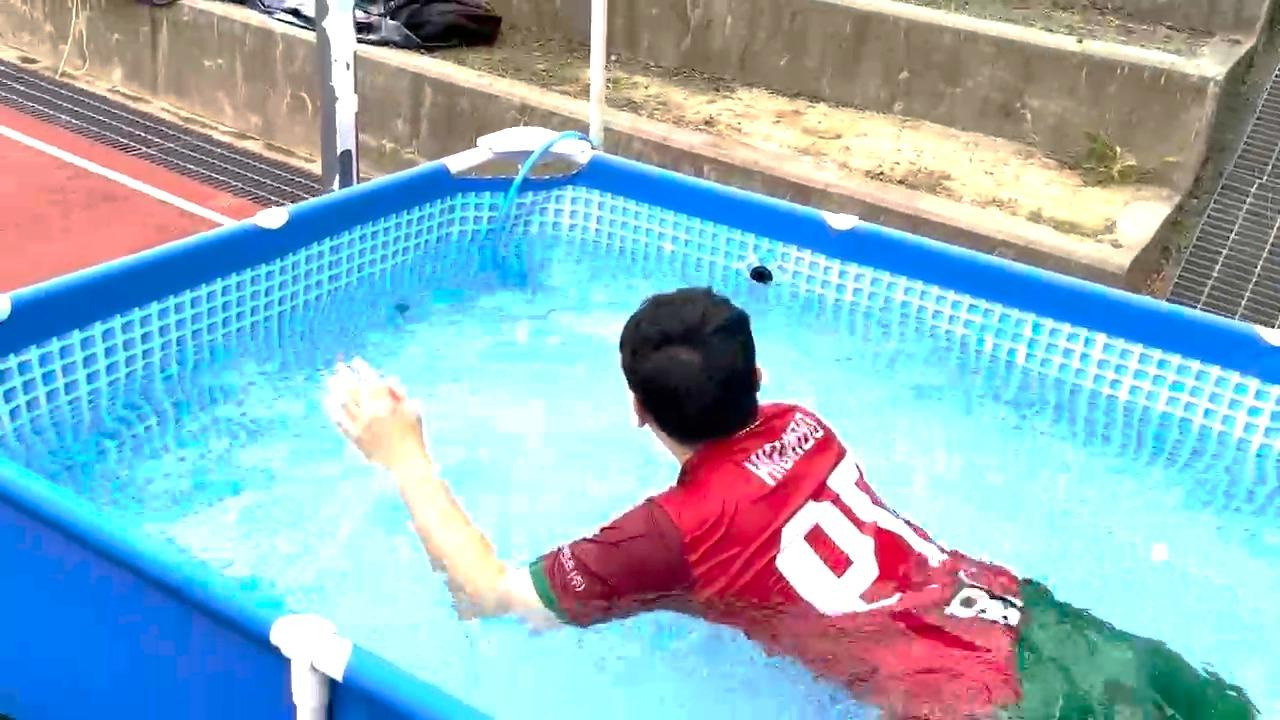Swimming: (284, 217, 1280, 720)
